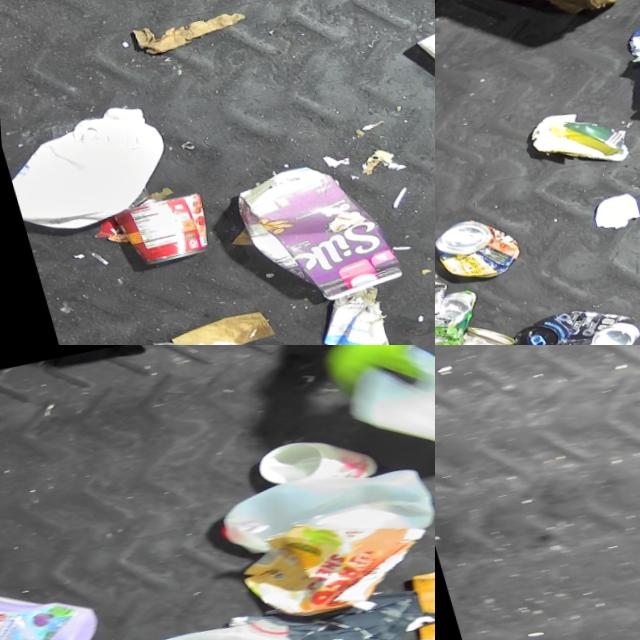can: (104, 187, 214, 272), (502, 293, 640, 345), (435, 208, 522, 287), (435, 285, 484, 345), (136, 323, 243, 345), (442, 315, 513, 345)
milk_jug: (208, 447, 435, 570), (0, 94, 179, 243), (329, 345, 435, 478), (58, 602, 330, 640)
non_white_jug: (220, 149, 401, 315), (0, 559, 108, 640)
